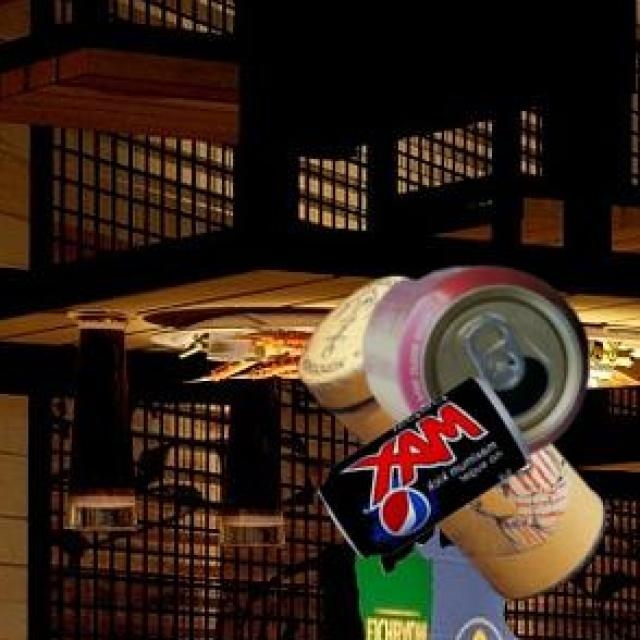logam: (295, 280, 604, 604), (360, 271, 584, 458), (315, 382, 526, 561)
